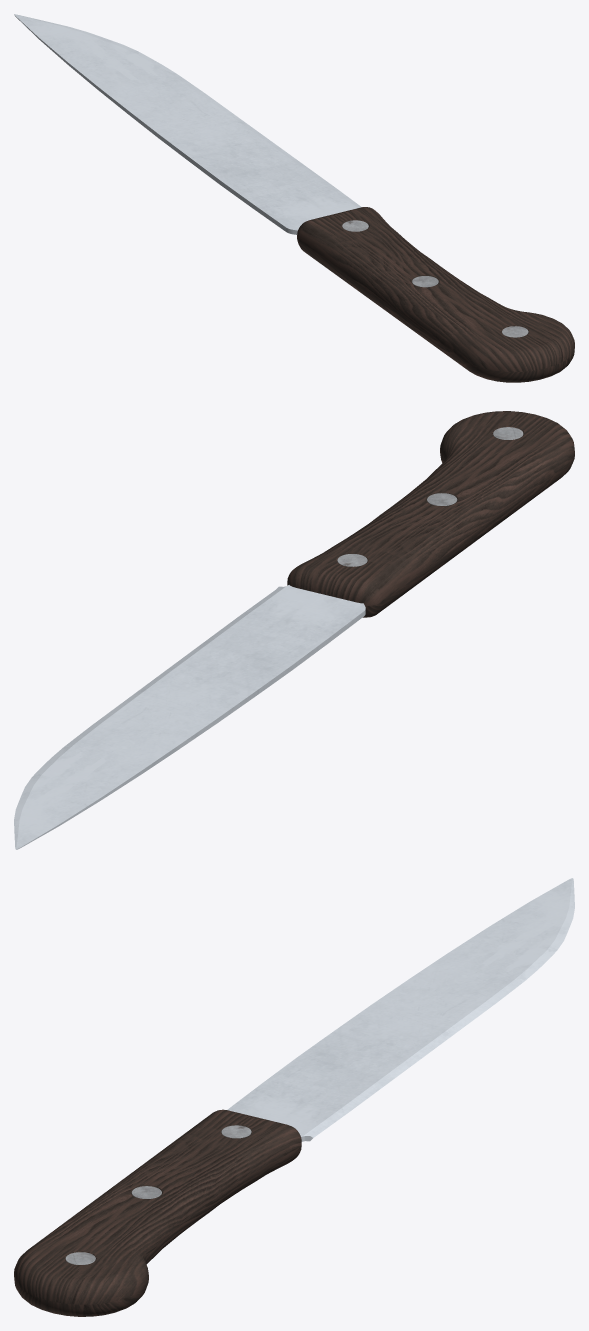
File: knife-normal03.fbx
The picture shows the model from 3 angles, top to bottom: view 1: azimuth 30°, elevation 25°; view 2: azimuth 150°, elevation 25°; view 3: azimuth 330°, elevation 25°; orthographic projection. The views are drawn at different scales.
Visible parts, largest first — view 1: knife_normal3; view 2: knife_normal3; view 3: knife_normal3.
Boxes of the visible parts, box(x1,y1,x2,y2) form: knife_normal3: box(14, 14, 574, 382); knife_normal3: box(14, 411, 574, 849); knife_normal3: box(14, 878, 574, 1316).
Size of the model in its own units: 1.76 by 0.5142 by 14.46.
